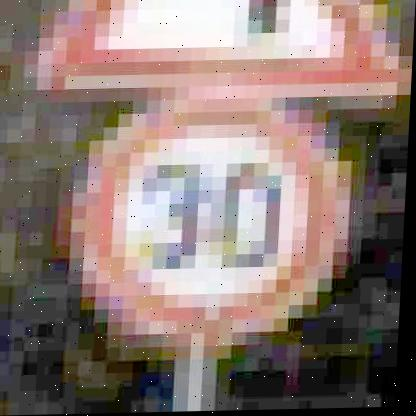Speed Limit -30-: (72, 89, 357, 342)
